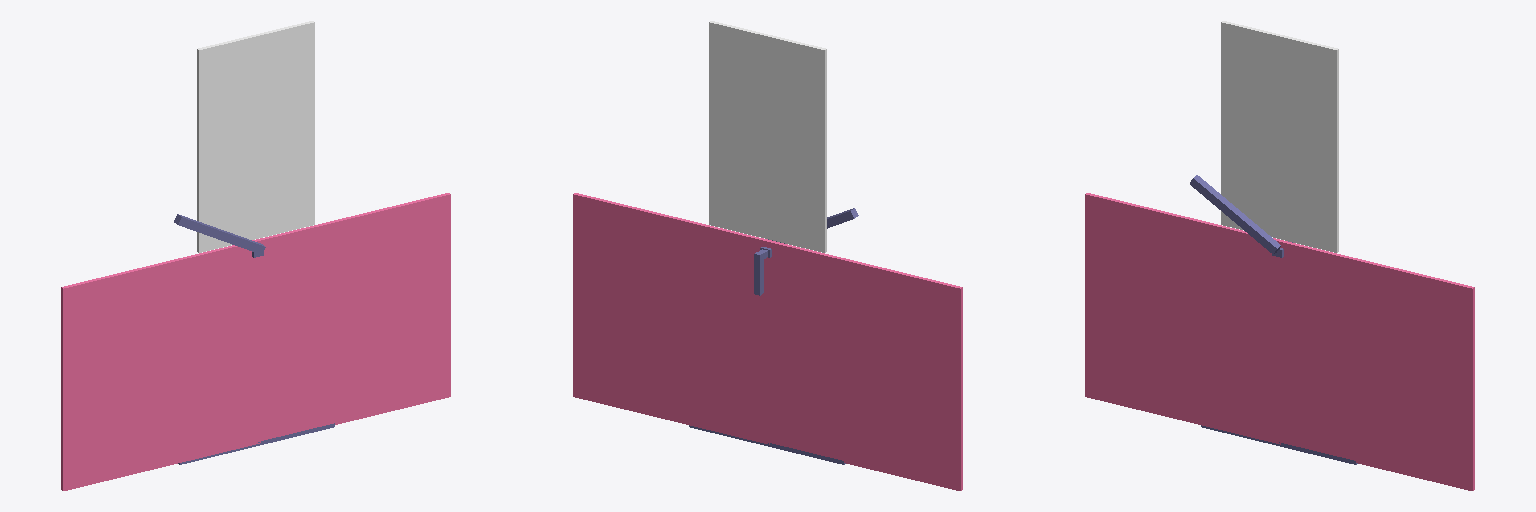
robot.urdf — door:
<?xml version="1.0" ?>
<robot name="door" xmlns:xacro="http://www.ros.org/wiki/xacro">
  <link name="hinge">
    <visual>
      <geometry>
        <box size="0.4 0.01 0.01"/>
      </geometry>
      <material name="box">
        <color rgba="0.5 0.5 0.7 1"/>
      </material>
    </visual>
    <collision>
      <geometry>
          <box size="0.4 0.01 0.01"/>
      </geometry>
      <sdf resolution="256"/>
    </collision>
    <inertial>
      <mass value="0.01"/>
    </inertial>
  </link>

  <link name="wall">
    <visual>
      <geometry>
        <box size="0.3 0.01 0.5"/>
      </geometry>
      <material name="wall_color">
        <color rgba="1.0 1.0 1.0 1"/>
      </material>
    </visual>
    <collision>
      <geometry>
        <box size="0.3 0.01 0.5"/>
      </geometry>
    </collision>
    <sdf resolution="256"/>
    <inertial>
      <mass value="1.0"/>
    </inertial>
  </link>

  <link name="board">
    <visual>
      <geometry>
        <box size="0.01 1.0 0.5"/>
      </geometry>
      <origin xyz="0 0 0.25"/>
      <material name="board_color">
        <color rgba="1.0 0.5 0.7 1"/>
      </material>
    </visual>
    <collision>
      <geometry>
        <box size="0.01 1.0 0.5"/>
      </geometry>
      <sdf resolution="256"/>
      <origin xyz="0 0 0.25"/>
    </collision>
    <inertial>
      <mass value="2.0"/>
    </inertial>
  </link>

  <link name="board_2">
    <visual>
      <geometry>
        <box size="0.025 0.025 0.02"/>
      </geometry>
      <material name="box2">
        <color rgba="0.5 0.5 0.7 1"/>
      </material>
    </visual>
    <collision>
      <geometry>
        <box size="0.025 0.025 0.02"/>
      </geometry>
      <sdf resolution="256"/>
    </collision>
    <inertial>
      <mass value="0.001"/>
    </inertial>
  </link>

  <link name="board_3">
    <visual>
      <geometry>
        <box size="0.015 0.015 0.1"/>
      </geometry>
      <origin xyz="0 0 0.015" rpy="0 0 0" />
      <material name="board_3_color">
        <color rgba="0.5 0.5 0.7 1"/>
      </material>
    </visual>
    <collision>
      <geometry>
        <box size="0.015 0.015 0.1"/>
      </geometry>
      <origin xyz="0 0 0.015" rpy="0 0 0" />
      <sdf resolution="256"/>
    </collision>
    <inertial>
      <mass value="0.01"/>
    </inertial>
  </link>

  <link name="board_4">
    <visual>
      <geometry>
        <box size="0.03 0.015 0.015"/>
      </geometry>
      <material name="board_4_color">
        <color rgba="0.5 0.5 0.7 1"/>
      </material>
    </visual>
    <collision>
      <geometry>
        <box size="0.03 0.015 0.015"/>
      </geometry>
      <sdf resolution="256"/>
    </collision>
    <inertial>
      <mass value="0.001"/>
    </inertial>
  </link>

  <link name="lock_door">
    <visual>
      <geometry>
        <box size="0.02 0.25 0.02"/>
      </geometry>
      <origin xyz="0 0.12 0" rpy="0 0 0" />
      <material name="lock_door_color">
        <color rgba="0.5 0.5 0.7 1"/>
      </material>
    </visual>
    <collision>
      <geometry>
        <box size="0.02 0.25 0.02"/>
      </geometry>
      <origin xyz="0 0.12 0" rpy="0 0 0" />
      <sdf resolution="256"/>
    </collision>
    <inertial>
      <mass value="0.2"/>
    </inertial>
  </link>
  
  <joint name="hinge_to_board" type="revolute"> <!--"continuous"--> <!--"revolute"-->
    <axis xyz="0 1 0"/>
    <origin xyz="0 0 0" rpy="0.0 0.0 1.5708"/> <!--rpy="0.0 0.0 1.57"-->
    <parent link="hinge"/>
    <child link="board"/>
    <limit effort="10.0" velocity="10" lower="0.0" upper="2.35"/>
  </joint>

  <joint name="board_to_board" type="revolute"> <!--"continuous"--> <!--"revolute"-->
    <axis xyz="-1 0 0"/>
    <origin xyz="0.0 0.0 0.475" rpy="0.0 0.0 0.0"/>
    <parent link="board"/>
    <child link="board_2"/>
    <limit effort="10.0" velocity="10" lower="0.0" upper="0.52"/>
  </joint>

  <joint name="board2_to_board3" type="fixed"> <!--"continuous"--> <!--"revolute"-->
    <origin xyz="0.04 0.0 -0.055" rpy="0.0 0.0 0.0"/>
    <parent link="board_2"/>
    <child link="board_3"/>
  </joint>

  <joint name="board2_to_board4" type="fixed"> <!--"continuous"--> <!--"revolute"-->
    <origin xyz="0.028 0.0 0.0" rpy="0.0 0.0 0.0"/>
    <parent link="board_2"/>
    <child link="board_4"/>
  </joint>

  <joint name="board2_to_lock_door" type="fixed"> <!--"continuous"--> <!--"revolute"-->
    <origin xyz="-0.019 0.0 0.0125" rpy="0.52 0.0 0.0"/>
    <parent link="board_2"/>
    <child link="lock_door"/>
  </joint>

  <joint name="hinge_to_wall" type="fixed"> <!--"continuous"--> <!--"revolute"-->
    <origin xyz="0 0 0.756" rpy="0.0 0.0 0.0"/> <!--rpy="0.0 0.0 1.57"-->
    <parent link="hinge"/>
    <child link="wall"/>
  </joint>

</robot>

--- Render facts (derived) ---
The picture shows the robot from 3 angles, left to right: view 1: azimuth 30°, elevation 25°; view 2: azimuth 150°, elevation 25°; view 3: azimuth 330°, elevation 25°; orthographic projection.
Robot: door — 7 links, 6 joints (2 revolute, 4 fixed); root link hinge; default pose: all joints at 0.
Visible links, largest first — view 1: board, wall, lock_door; view 2: board, wall; view 3: board, wall, lock_door.
Boxes of the visible links, x1=… form: board: x1=61, y1=193, x2=450, y2=490; wall: x1=197, y1=21, x2=314, y2=252; lock_door: x1=174, y1=214, x2=265, y2=254; board: x1=573, y1=193, x2=962, y2=490; wall: x1=709, y1=21, x2=826, y2=252; board: x1=1085, y1=193, x2=1474, y2=490; wall: x1=1221, y1=21, x2=1338, y2=252; lock_door: x1=1190, y1=175, x2=1280, y2=254.
Size in the robot's own frame: 1 by 0.0765 by 1.01 metres.
Geometry: primitives only (box / cylinder / sphere), no mesh files.